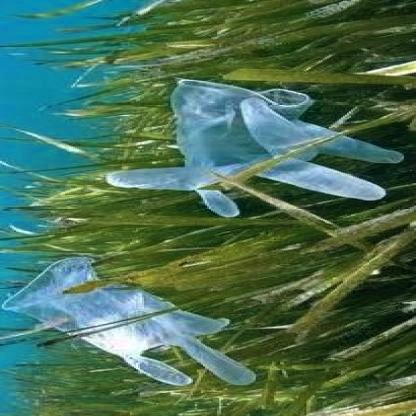glove: (103, 76, 412, 228), (6, 252, 268, 392)
